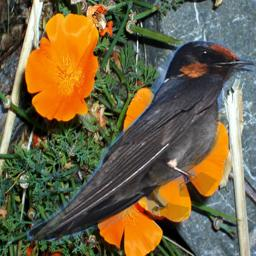Swallow: (26, 40, 255, 241)
